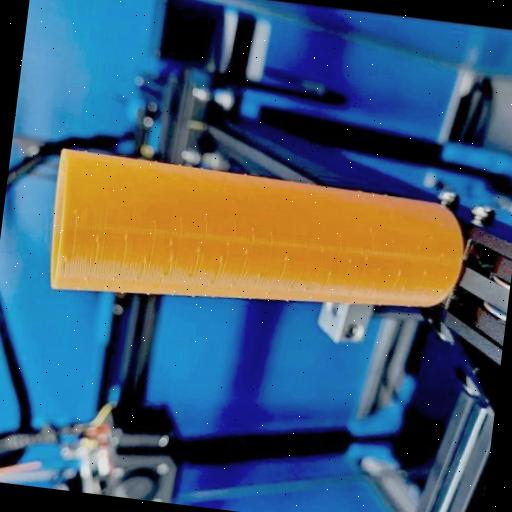blobs: (92, 229, 104, 243), (176, 214, 187, 225), (120, 231, 130, 242), (193, 242, 202, 254), (280, 252, 290, 262), (375, 265, 385, 275), (346, 254, 356, 264), (242, 246, 250, 258), (420, 268, 428, 280), (141, 254, 150, 264), (327, 268, 336, 278), (166, 236, 174, 246), (218, 254, 226, 264), (62, 254, 70, 264), (110, 272, 118, 282), (390, 235, 398, 245), (395, 268, 403, 278), (414, 243, 422, 253), (160, 270, 168, 278), (438, 250, 446, 258), (184, 272, 191, 281), (207, 276, 214, 285), (170, 252, 176, 262), (72, 206, 78, 216), (226, 238, 232, 247), (364, 253, 370, 262), (250, 225, 257, 232), (256, 270, 262, 278), (400, 282, 406, 290), (84, 273, 90, 280), (368, 226, 375, 232), (152, 218, 158, 224)
